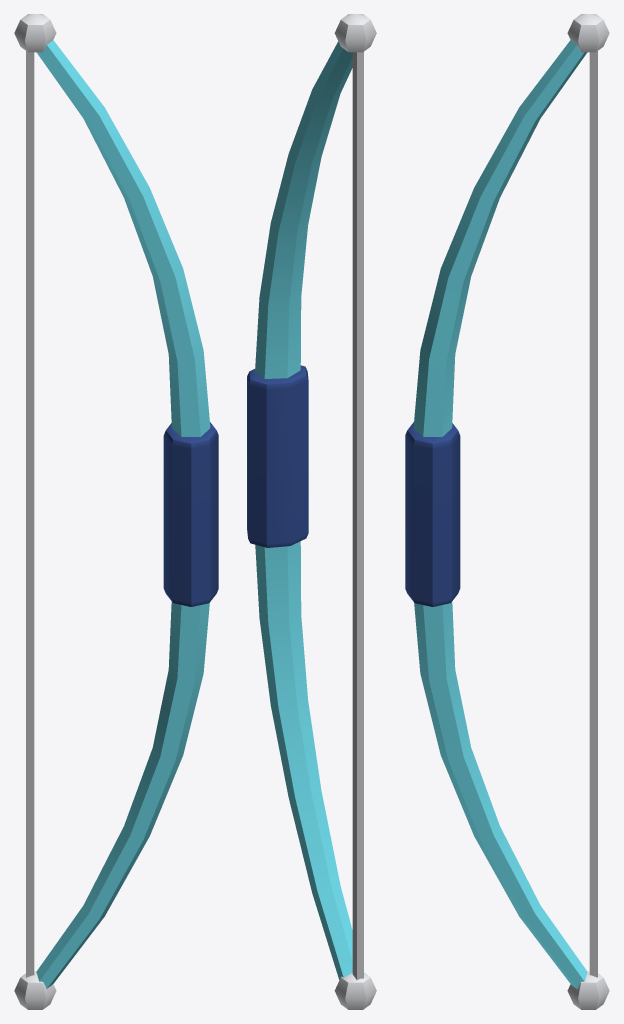
The model's file is DiamondBow.fbx.
3 views of the same model, side by side, from view 1: azimuth 90°, elevation 25°; view 2: azimuth 210°, elevation 25°; view 3: azimuth 270°, elevation 25° (orthographic).
Parts seen in each view (by area): view 1: DiamondBow; view 2: DiamondBow; view 3: DiamondBow.
Boxes of the visible parts, left/top/right/bottom form: DiamondBow: left=14, top=14, right=218, bottom=1009; DiamondBow: left=247, top=14, right=376, bottom=1009; DiamondBow: left=405, top=14, right=609, bottom=1009.
Bounding box in the file's own units: 0.26 × 4.16 × 0.774.
1 material, 1 textured.
